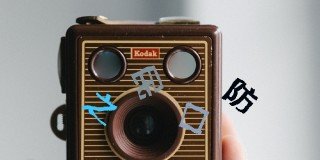之: (82, 91, 118, 126)
口: (178, 100, 208, 134)
民: (131, 64, 164, 100)
防: (221, 77, 258, 114)
